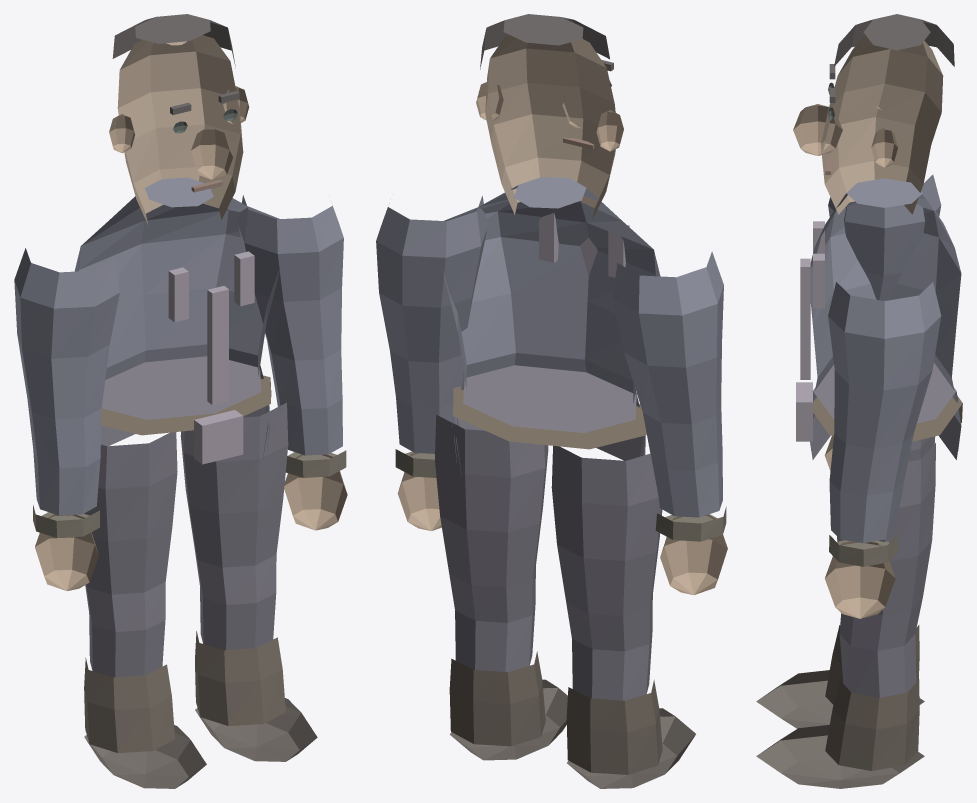
File: scholar_1000_2.glb
3 views of the same model, side by side, from view 1: azimuth 30°, elevation 25°; view 2: azimuth 150°, elevation 25°; view 3: azimuth 270°, elevation 25° (orthographic). The views are drawn at different scales.
Visible parts, largest first — view 1: body_0, leftArm_0, rightLeg_0, rightArm_0, leftLeg_0, head_0, body_1, leftLeg_1, rightLeg_1, rightLeg_2, leftLeg_2, leftArm_2 (+11 smaller); view 2: body_0, leftLeg_0, rightLeg_0, leftArm_0, rightArm_0, head_0, body_1, leftLeg_1, rightLeg_1, body_2, leftArm_2, head_9 (+8 smaller); view 3: rightArm_0, head_0, rightLeg_0, body_0, rightLeg_1, leftArm_0, rightLeg_2, rightArm_2, head_9, leftLeg_2, body_1, head_1 (+8 smaller).
Boxes of the visible parts, bbox=[...] form: body_0: bbox=[74, 177, 279, 450]; leftArm_0: bbox=[14, 248, 119, 515]; rightLeg_0: bbox=[180, 402, 288, 650]; rightArm_0: bbox=[238, 195, 343, 455]; leftLeg_0: bbox=[84, 432, 177, 677]; head_0: bbox=[117, 35, 243, 223]; body_1: bbox=[101, 356, 268, 458]; leftLeg_1: bbox=[84, 657, 174, 752]; rightLeg_1: bbox=[195, 631, 285, 725]; rightLeg_2: bbox=[195, 698, 317, 761]; leftLeg_2: bbox=[84, 725, 206, 788]; leftArm_2: bbox=[35, 514, 98, 590]; body_0: bbox=[443, 177, 660, 462]; leftLeg_0: bbox=[551, 446, 662, 700]; rightLeg_0: bbox=[435, 415, 548, 672]; leftArm_0: bbox=[612, 251, 723, 517]; rightArm_0: bbox=[376, 195, 487, 453]; head_0: bbox=[485, 35, 615, 219]; body_1: bbox=[456, 365, 643, 474]; leftLeg_1: bbox=[566, 679, 662, 774]; rightLeg_1: bbox=[449, 651, 545, 746]; body_2: bbox=[452, 386, 646, 449]; leftArm_2: bbox=[660, 514, 727, 594]; head_9: bbox=[480, 14, 609, 69]; rightArm_0: bbox=[828, 282, 941, 543]; head_0: bbox=[821, 36, 943, 214]; rightLeg_0: bbox=[837, 443, 935, 697]; body_0: bbox=[810, 178, 961, 450]; rightLeg_1: bbox=[825, 679, 919, 770]; leftArm_0: bbox=[828, 174, 941, 300]; rightLeg_2: bbox=[756, 725, 924, 788]; rightArm_2: bbox=[824, 541, 895, 618]; head_9: bbox=[834, 14, 954, 66]; leftLeg_2: bbox=[756, 670, 924, 728]; body_1: bbox=[810, 363, 961, 459]; head_1: bbox=[793, 104, 842, 155].
Bounding box in the file's own units: 0.774 × 1.66 × 0.431.
